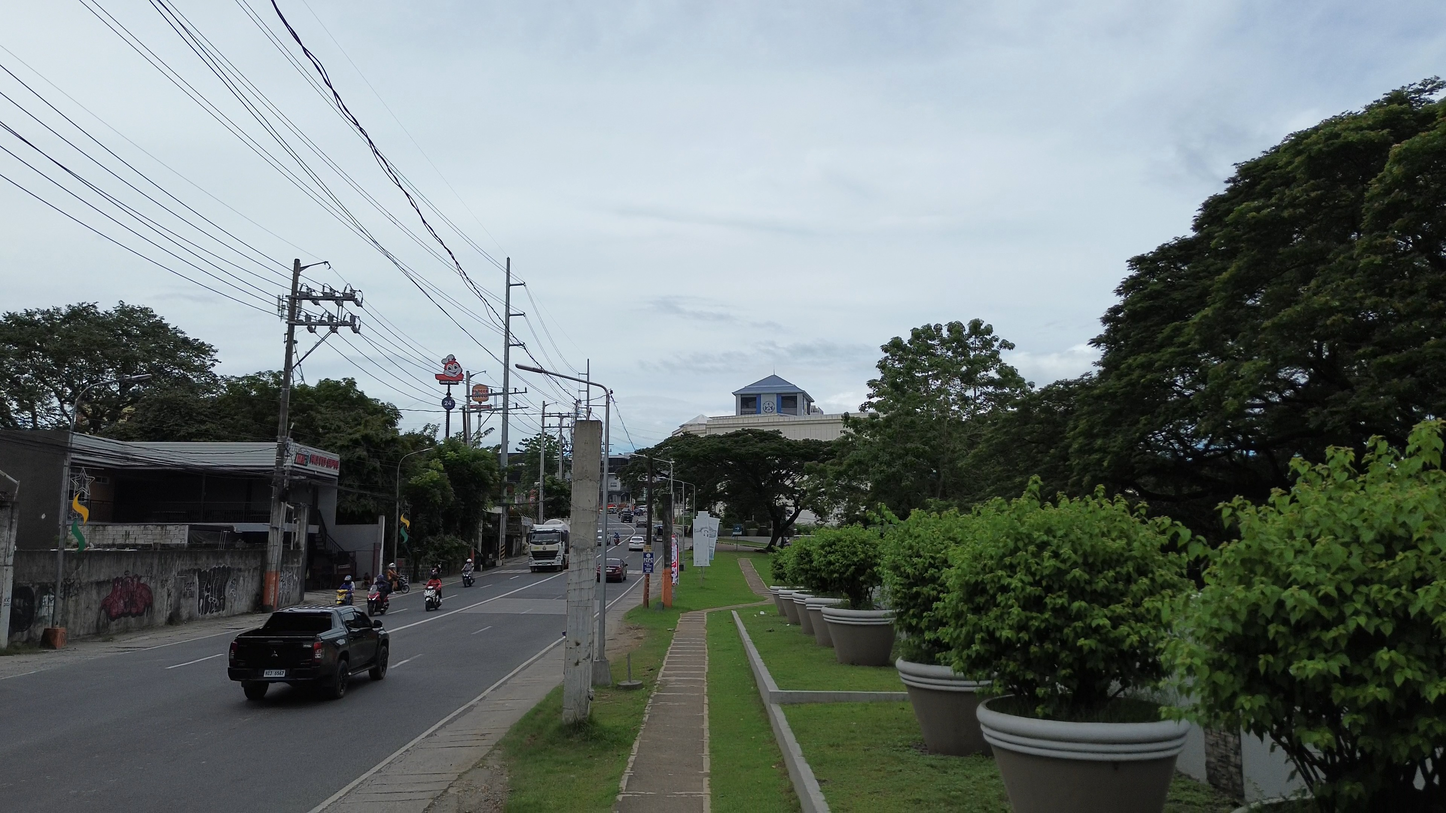motorcycle: (424, 588, 441, 611), (336, 588, 353, 606), (462, 572, 474, 587)
vehicle: (228, 606, 389, 699), (528, 520, 570, 571), (368, 586, 389, 615), (606, 558, 627, 582), (424, 586, 441, 611), (628, 535, 645, 551), (619, 511, 633, 524)
